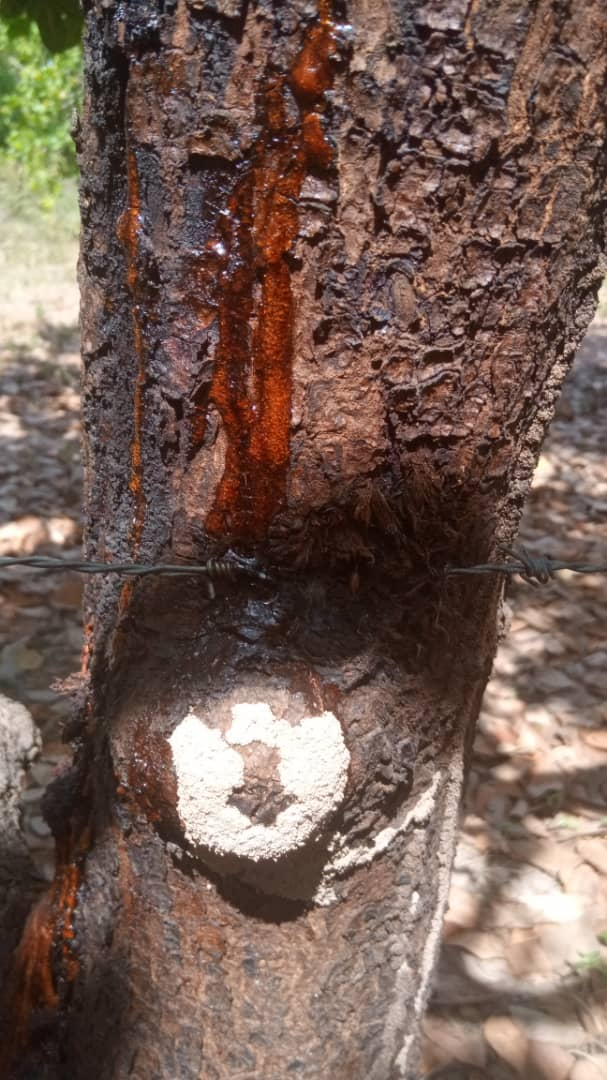Gommose: (75, 10, 378, 656), (8, 810, 117, 1056)
